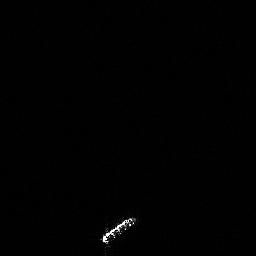ship: (97, 213, 139, 247)
